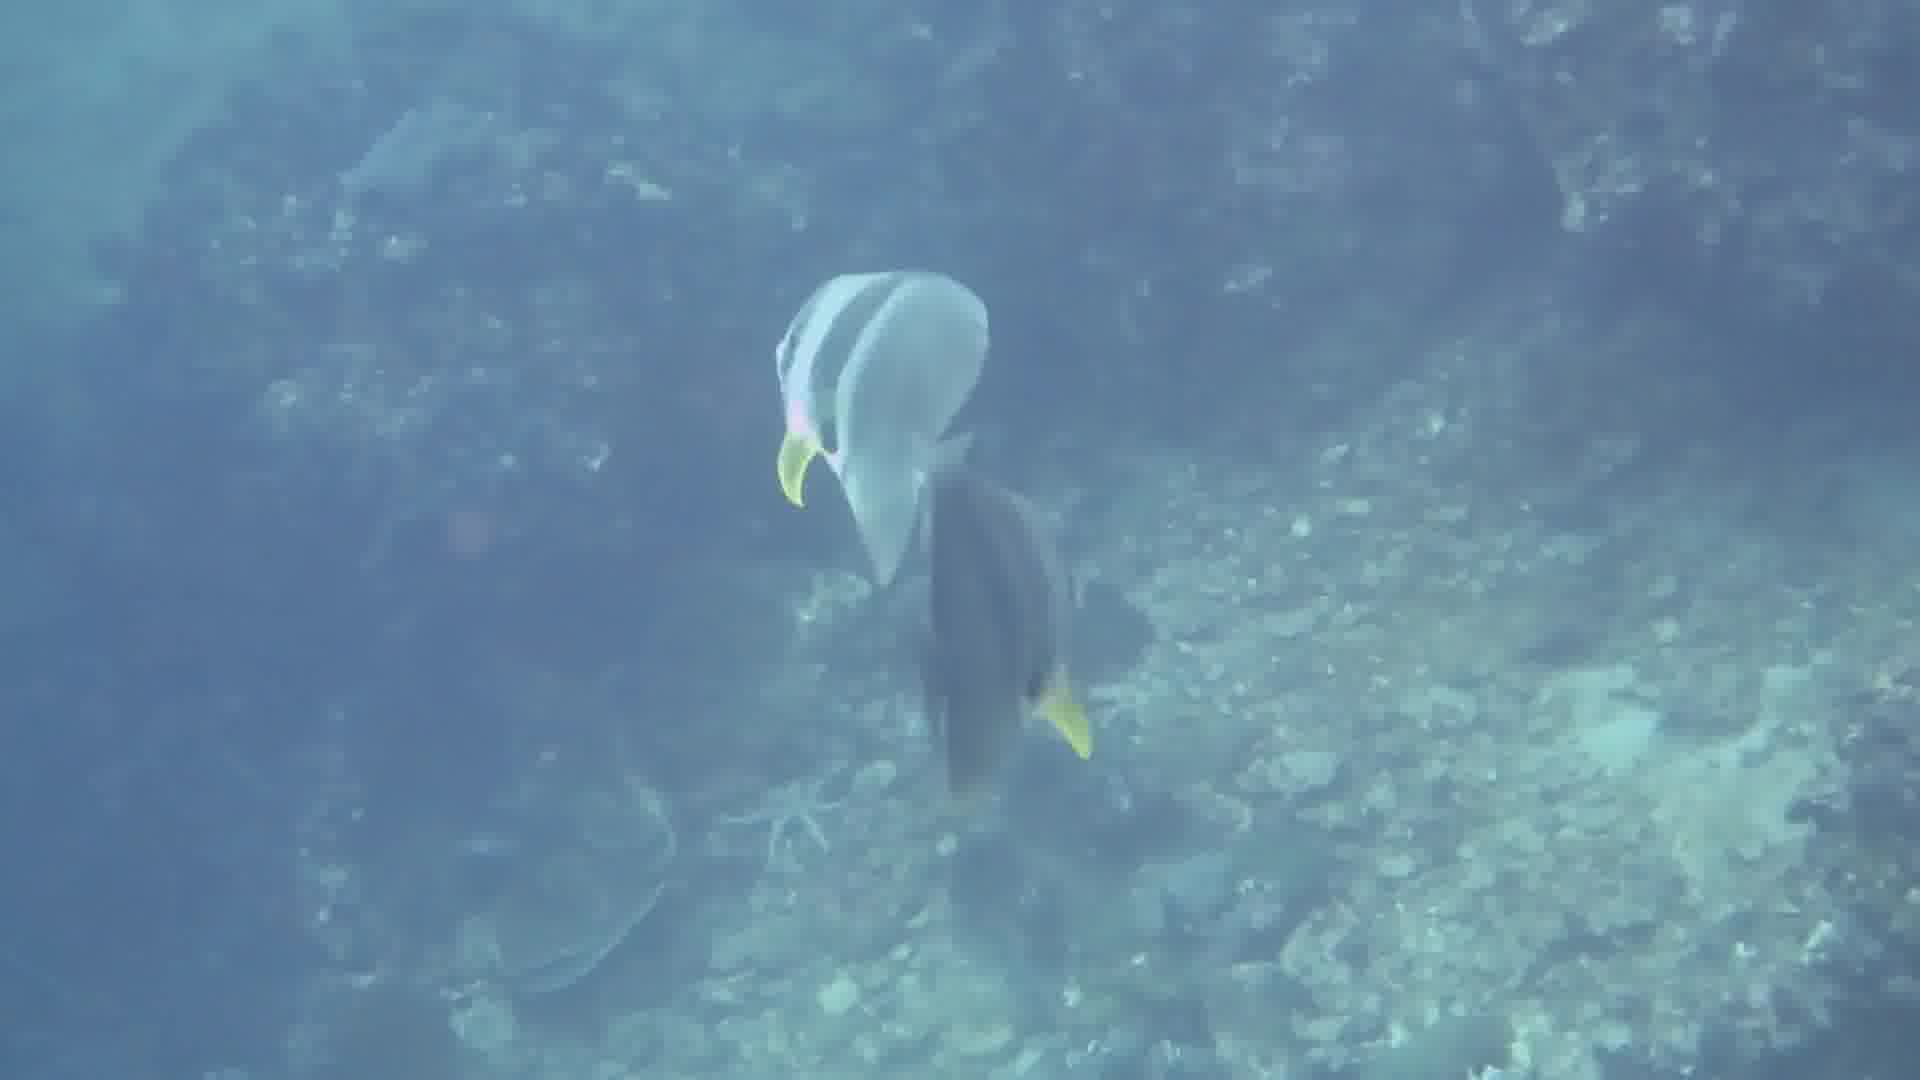Platax teira: (675, 228, 1021, 600)
